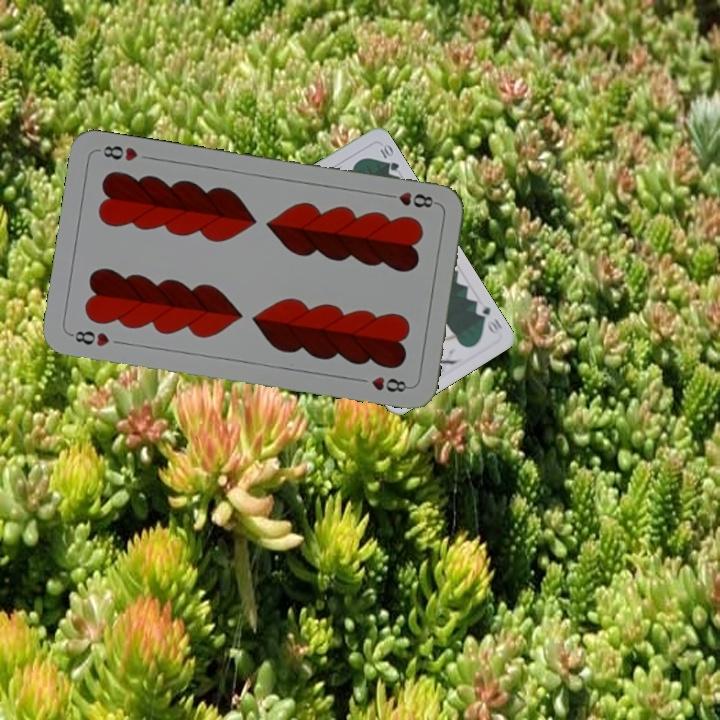G10: (471, 298, 505, 337)
H8: (381, 188, 440, 211), (66, 326, 112, 349)
